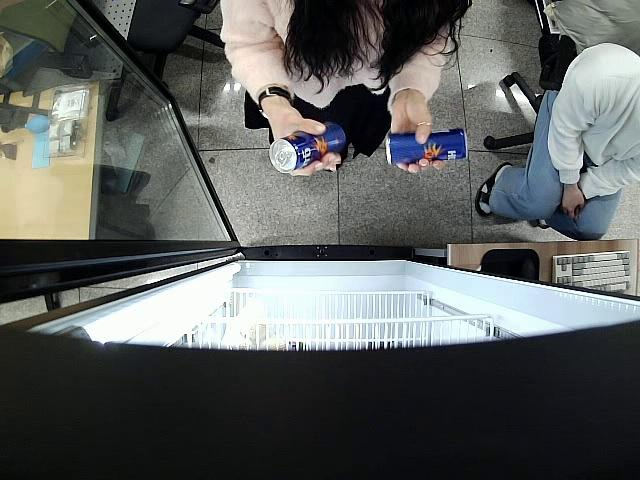00_hand: (261, 96, 343, 176), (391, 96, 446, 173), (561, 183, 587, 221)
16_hot6: (269, 120, 347, 173), (385, 126, 470, 167)
